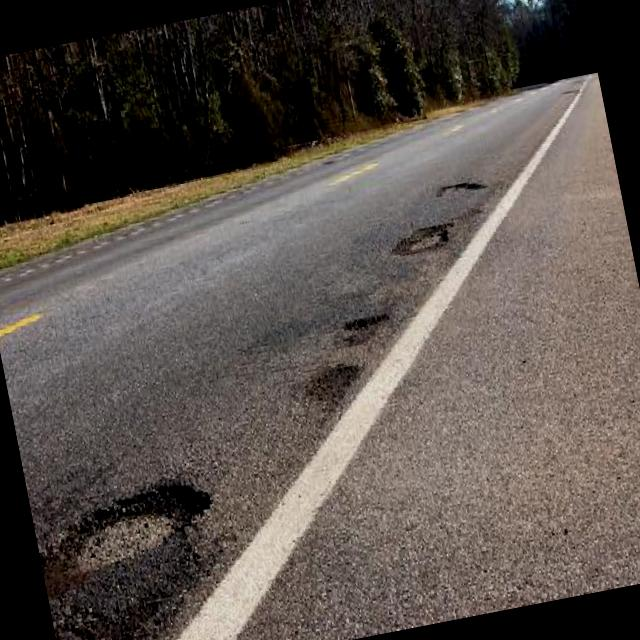Lubang: (57, 483, 210, 574), (306, 366, 360, 403), (393, 226, 448, 255), (343, 314, 389, 343), (437, 179, 485, 193)
